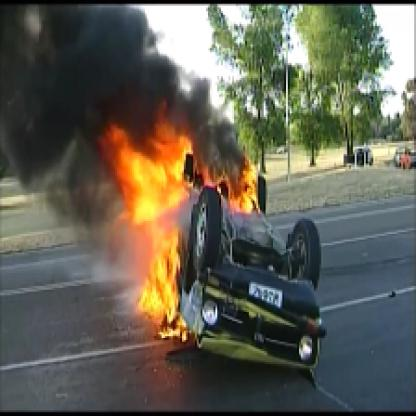Fire: (63, 87, 258, 342)
